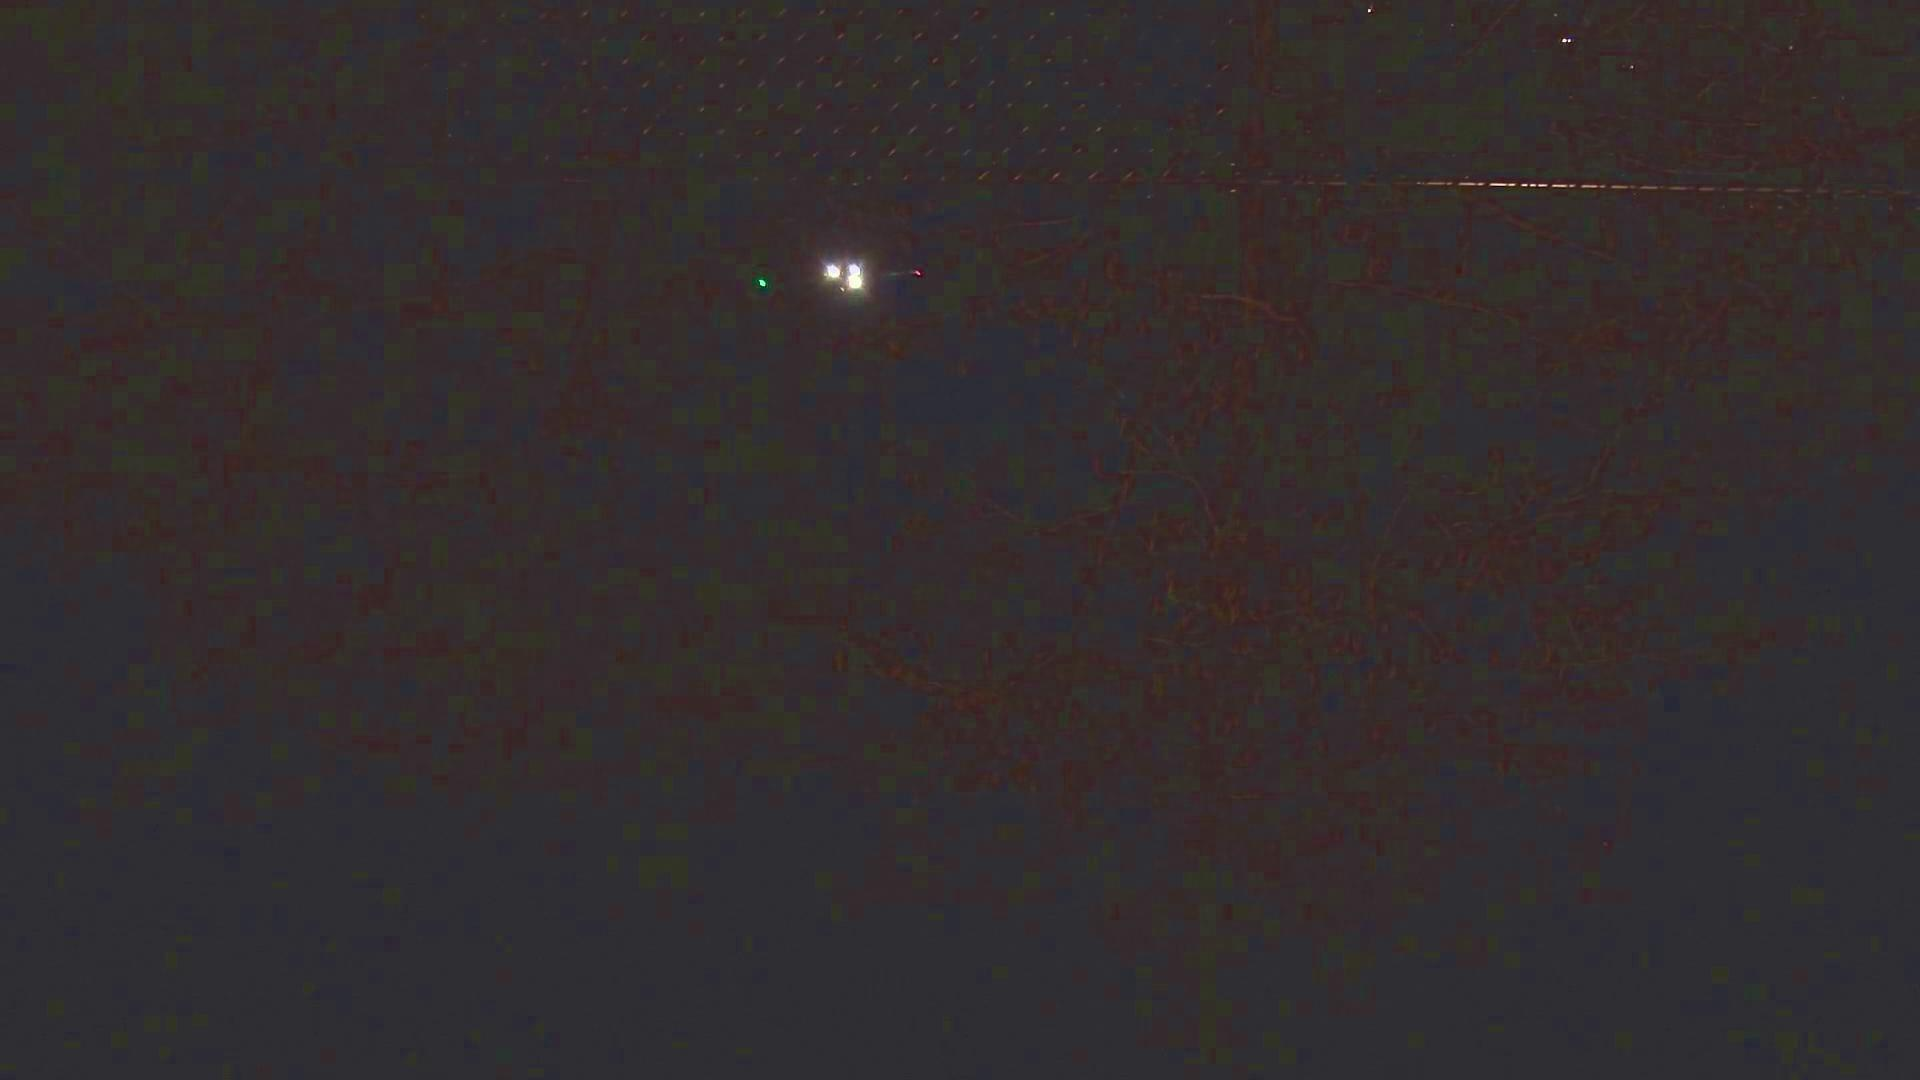Plane: (749, 247, 960, 301)
